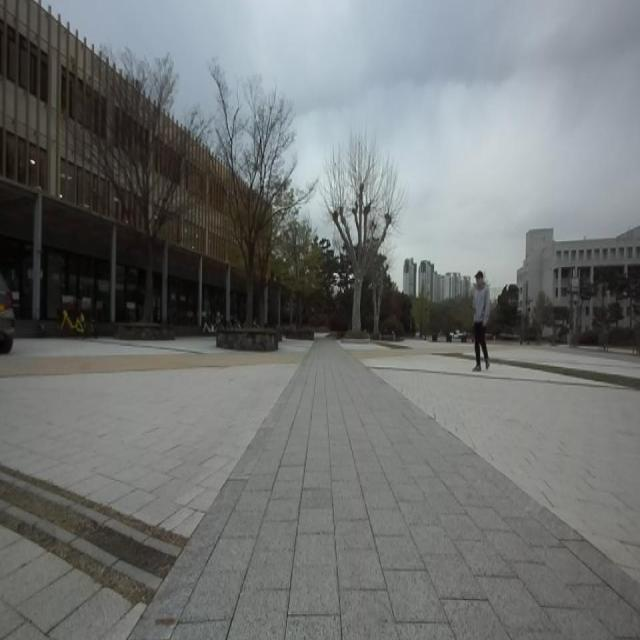sidewalk: (132, 340, 640, 639)
